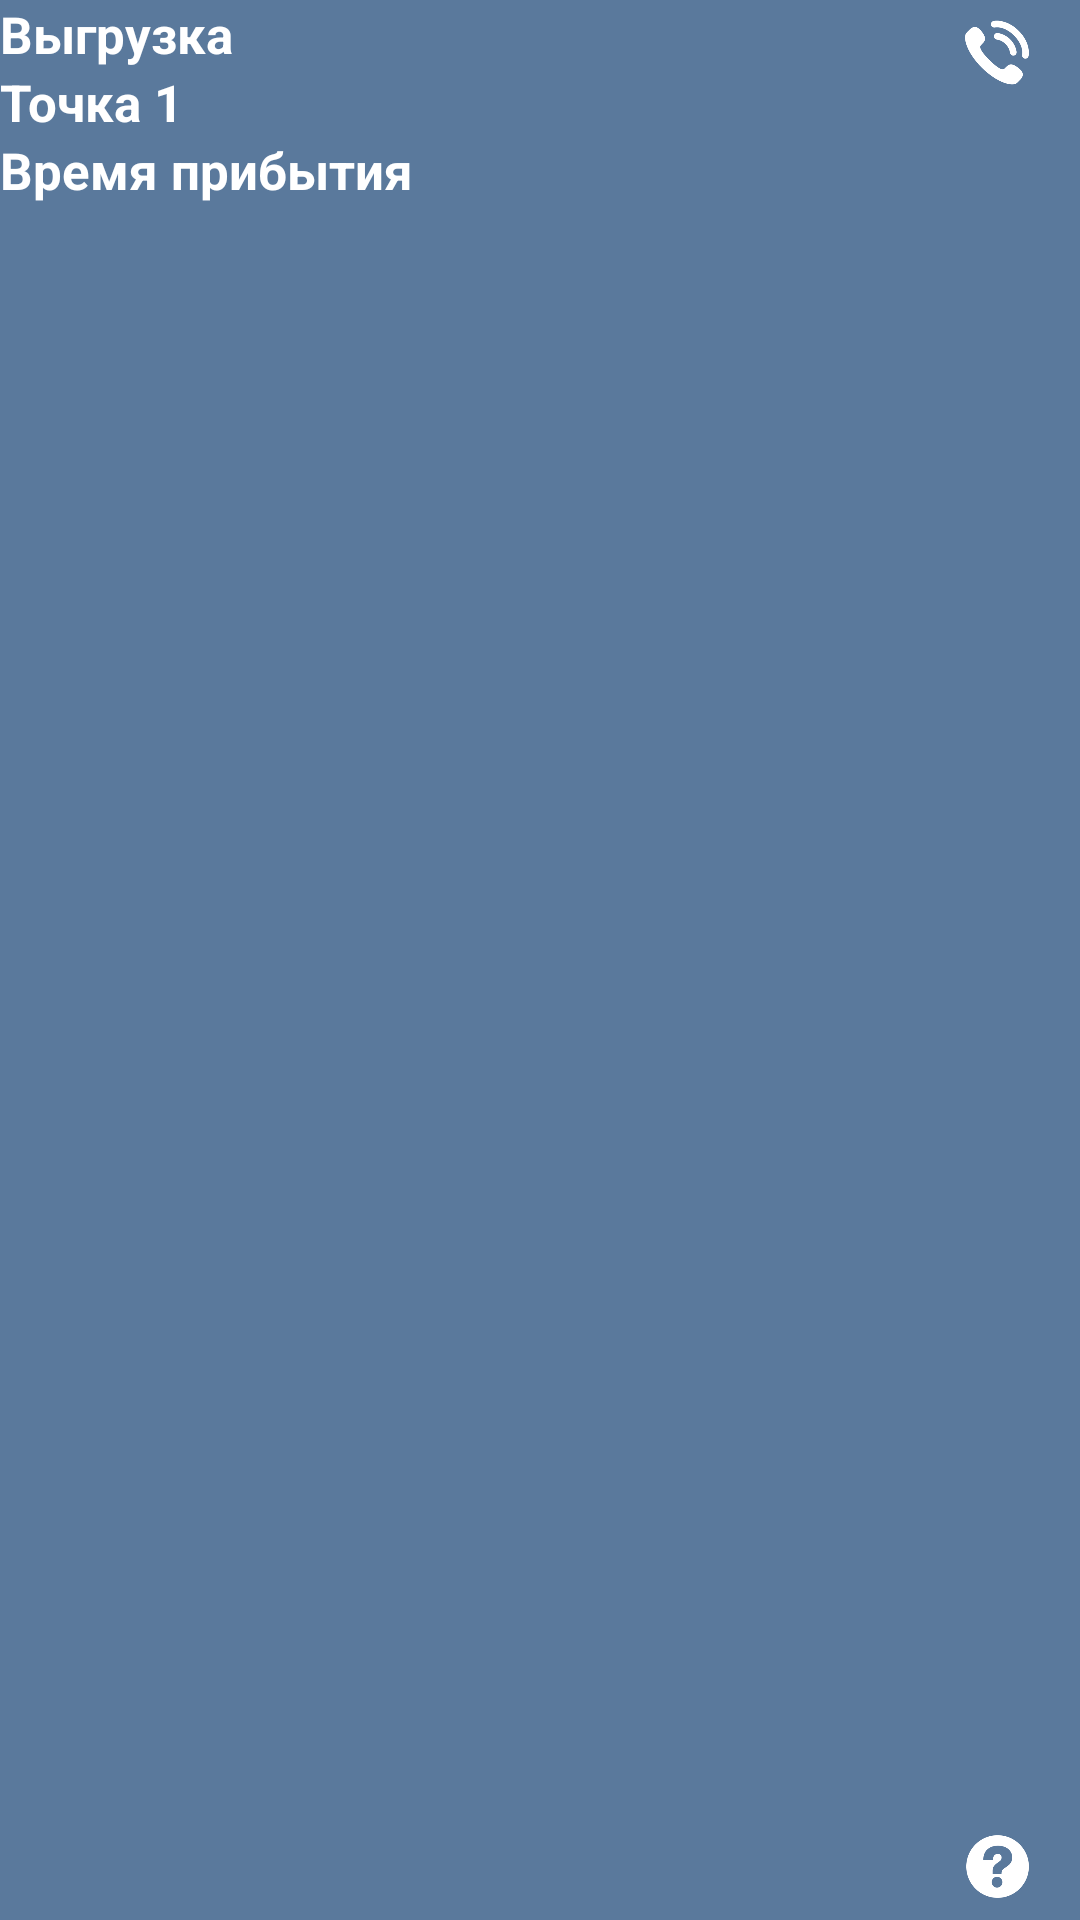

Screen size 1080x1920. Icon name, then its center in pixels as (x,y):
phone: (997,52)
question: (997,1866)
